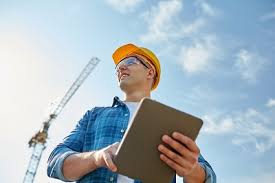hard hat: (112, 42, 161, 92)
